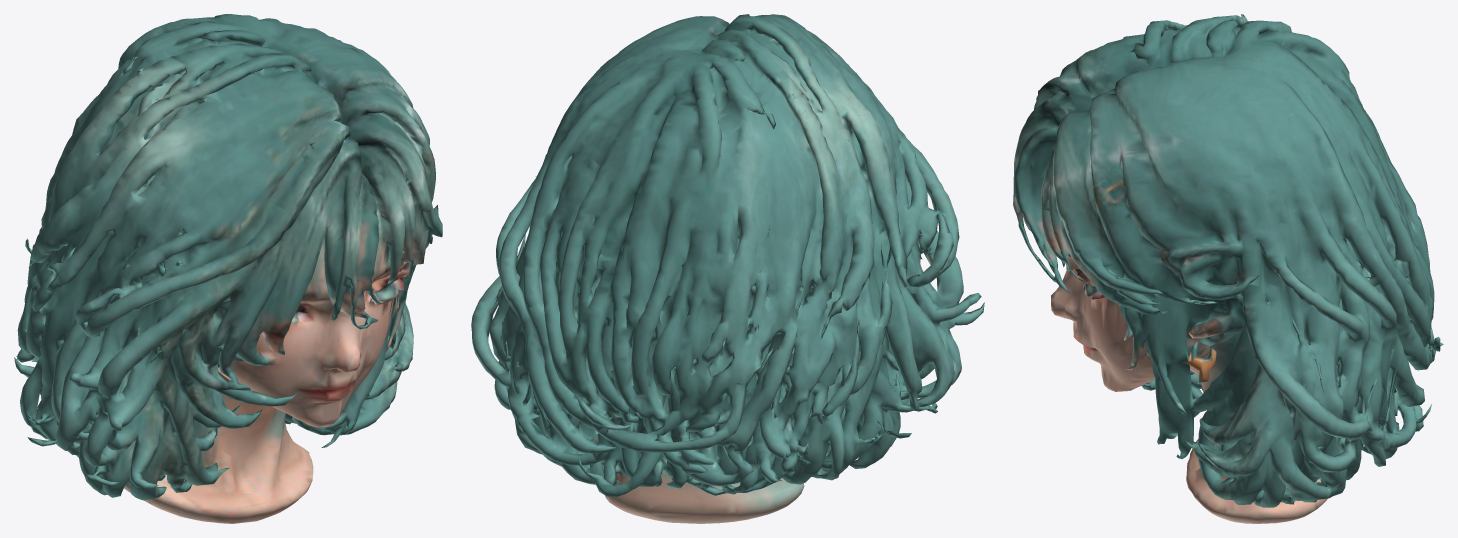
File: head-b-final.glb
3 views of the same model, side by side, from view 1: azimuth 30°, elevation 25°; view 2: azimuth 150°, elevation 25°; view 3: azimuth 270°, elevation 25° (orthographic). The views are drawn at different scales.
Parts seen in each view (by area): view 1: PortraitHead_Final; view 2: PortraitHead_Final; view 3: PortraitHead_Final.
Boxes of the visible parts, bbox=[...] form: PortraitHead_Final: bbox=[14, 14, 442, 523]; PortraitHead_Final: bbox=[471, 14, 984, 523]; PortraitHead_Final: bbox=[1013, 14, 1443, 523].
Bounding box in the file's own units: 1.86 × 2 × 1.68.
1 material, 1 textured.
